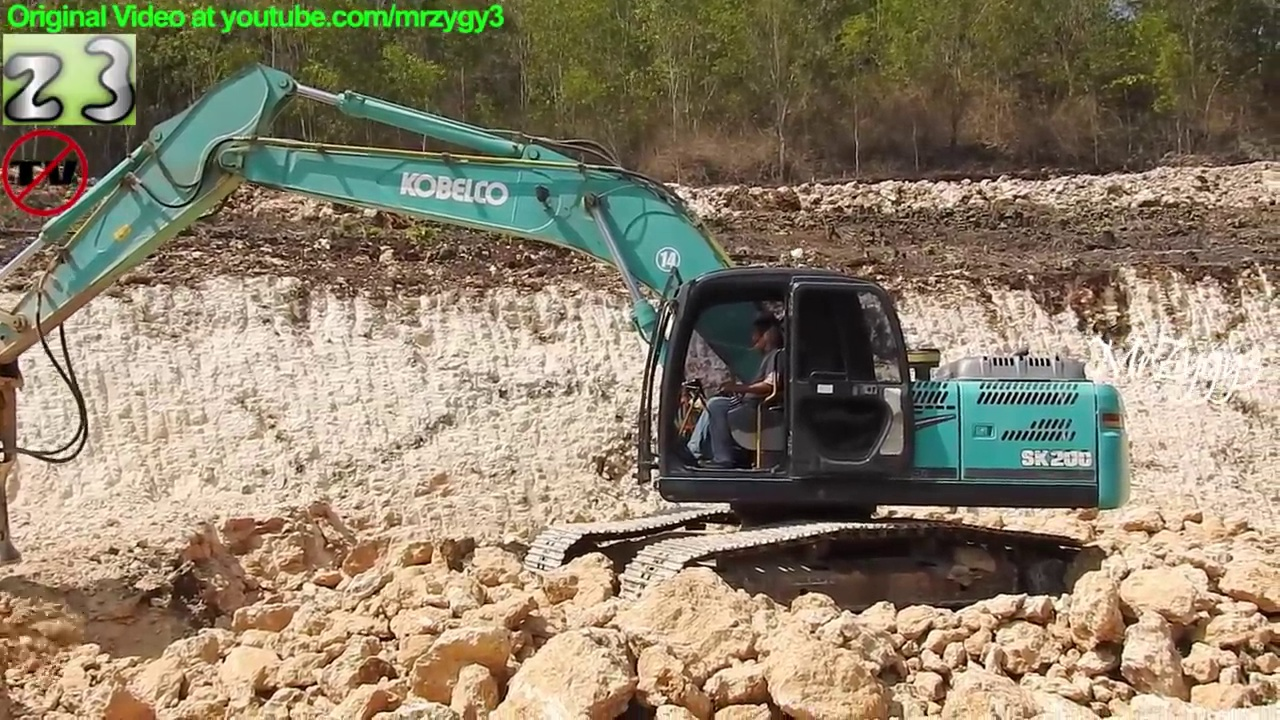excavator: (1, 57, 1134, 628)
